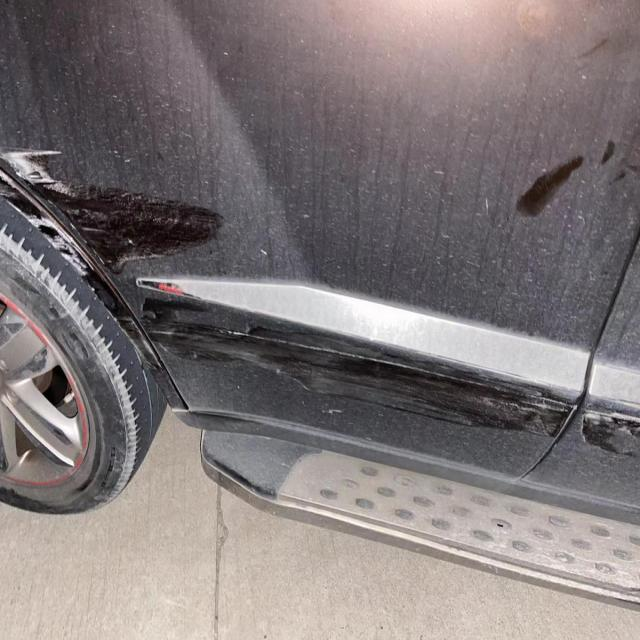Scratch: (0, 149, 99, 278)
